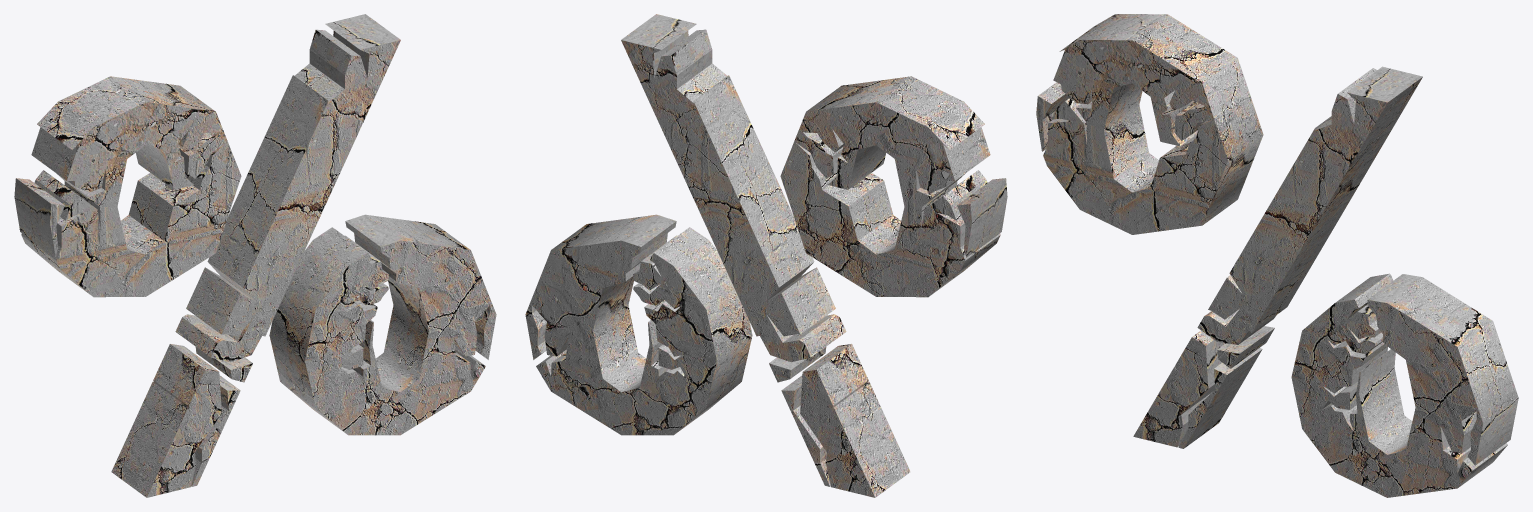
The model's file is Interest.FBX.
3 views of the same model, side by side, from view 1: azimuth 30°, elevation 25°; view 2: azimuth 150°, elevation 25°; view 3: azimuth 330°, elevation 25° (orthographic).
Parts seen in each view (by area): view 1: Interest; view 2: Interest; view 3: Interest.
Boxes of the visible parts, x1=… form: Interest: x1=14, y1=14, x2=496, y2=497; Interest: x1=525, y1=14, x2=1007, y2=497; Interest: x1=1036, y1=14, x2=1518, y2=497.
Bounding box in the file's own units: 109 × 92.31 × 15.
1 material, 1 textured.
